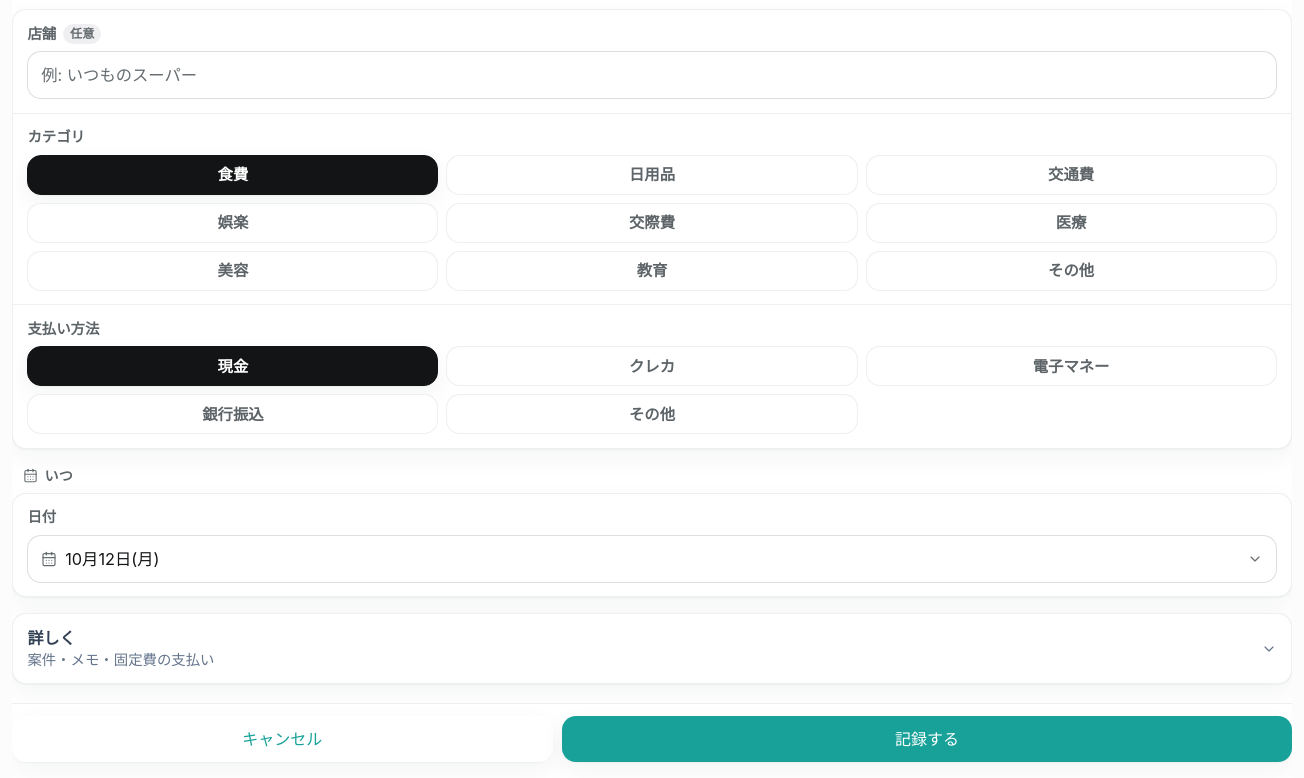
ExpenseForm 「詳しく」 › 新しく記録するときは畳んであり、開くと案件・メモ・固定費が出る
(page scrolled)
Click the button "詳しく 案件・メモ・固定費の支払い" at (51, 638), box left=13, top=614, right=1291, bottom=683
(page scrolled)
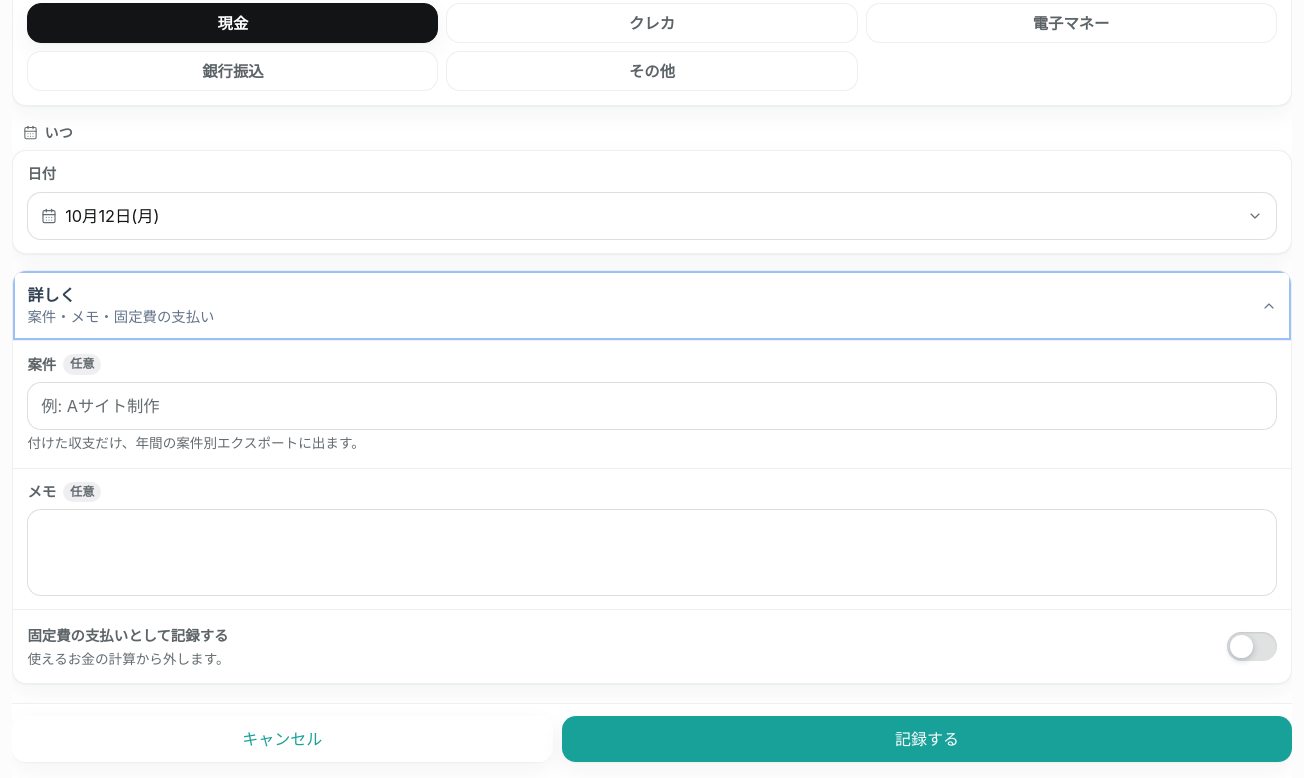
Check: the text box labelled "メモ 任意" is shown, box left=27, top=509, right=1277, bottom=596
Check: the field labelled "案件 任意 付けた収支だけ、年間の案件別エクスポートに出ます。" is shown, box left=27, top=382, right=1277, bottom=430
Check: the switch labelled "固定費の支払いとして記録する 使えるお金の計算から外します。" is shown, box left=13, top=610, right=1291, bottom=683
